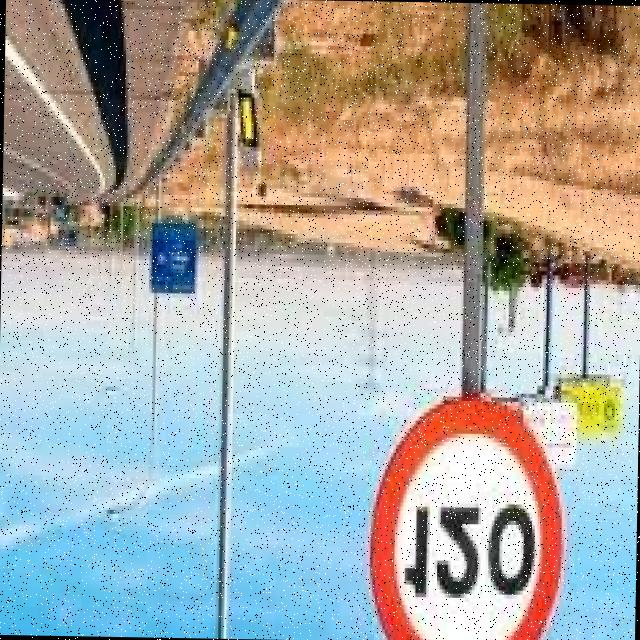speed_limit_120: (362, 395, 563, 640)
